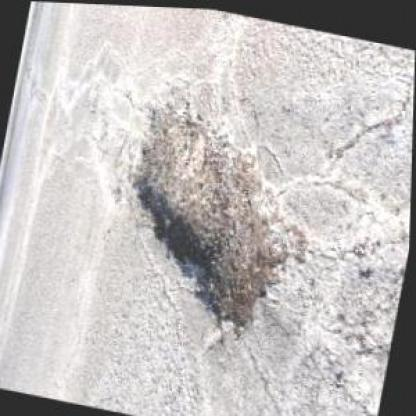pothole: (102, 81, 326, 342)
